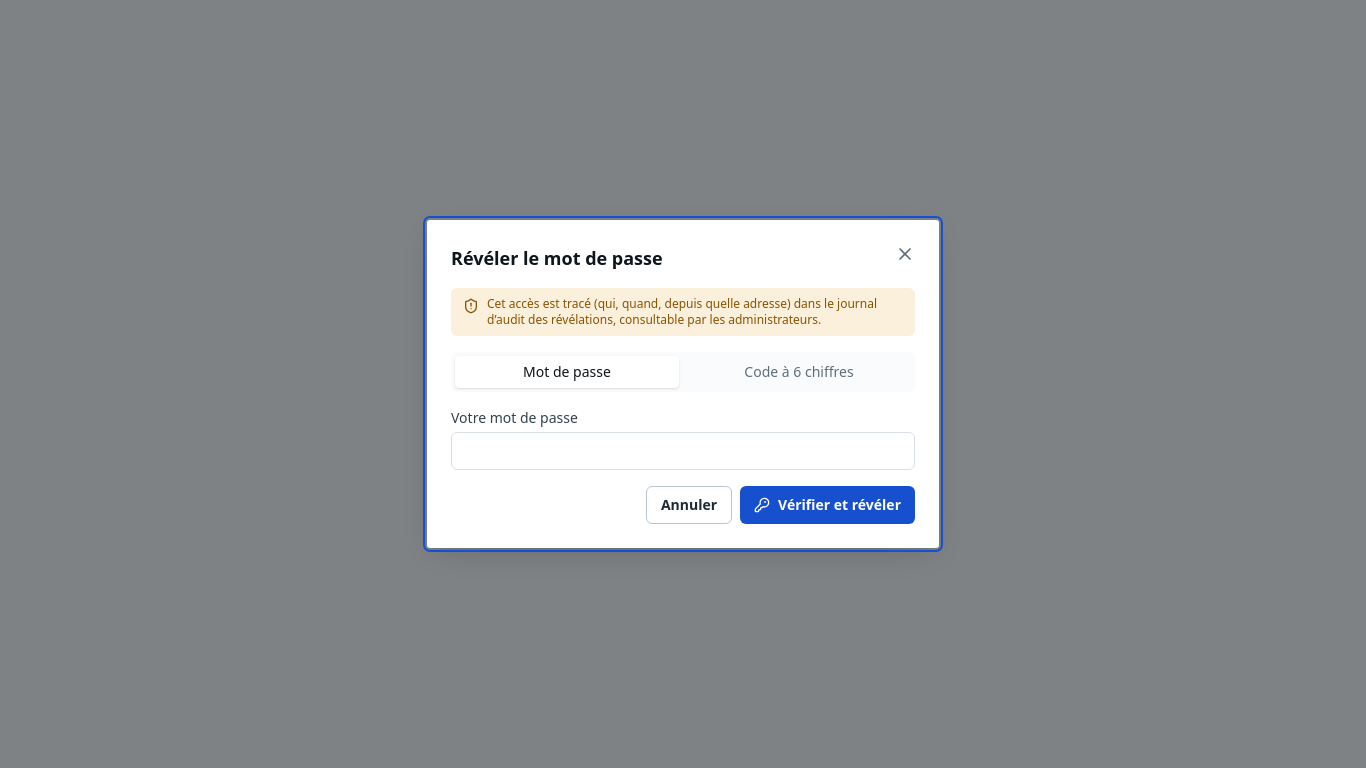
it: RevealSecretModal › ré-authentification › affiche une erreur et AUCUN secret quand les identifiants sont refusés
Type "MauvaisMotDePasse" into the password field labelled "Votre mot de passe" at [683, 451], box [451,432,915,470]
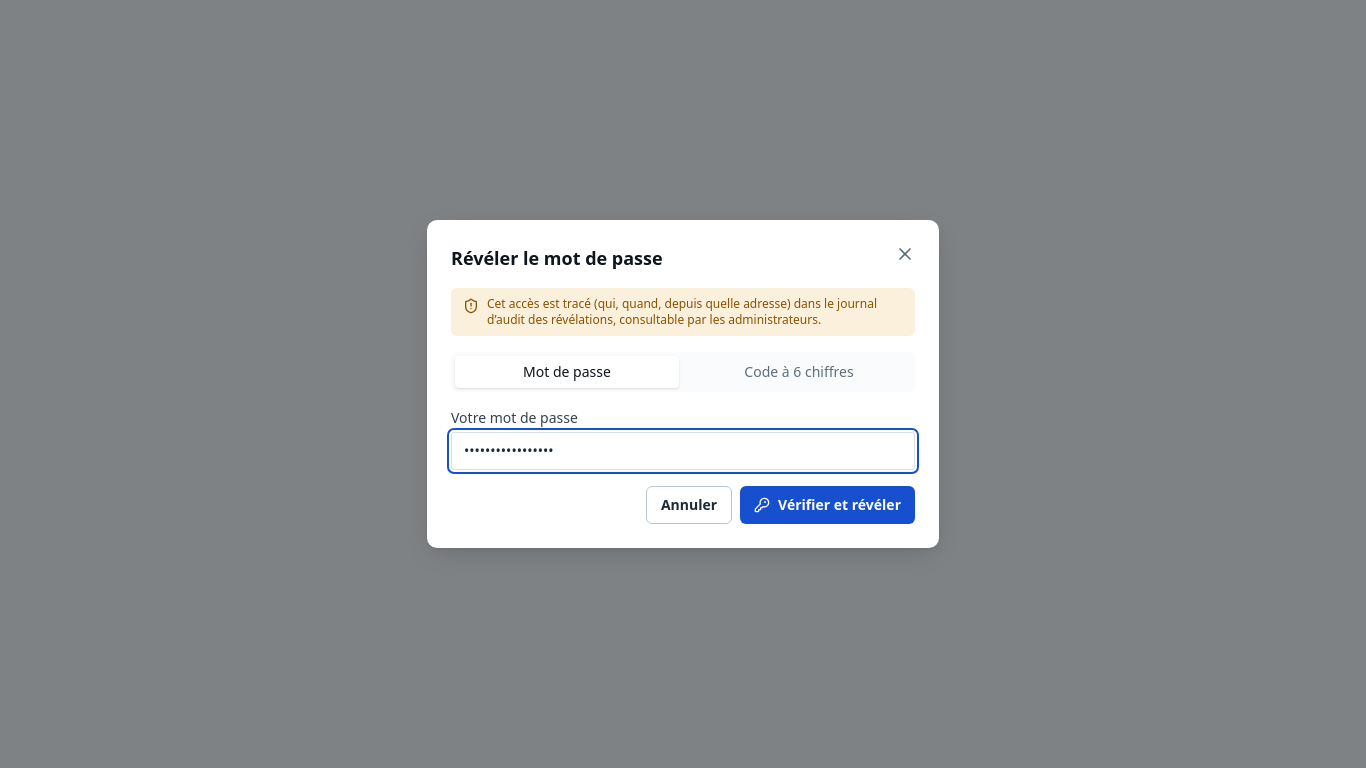
Click the button "Vérifier et révéler" at [828, 505], box [740,486,915,524]
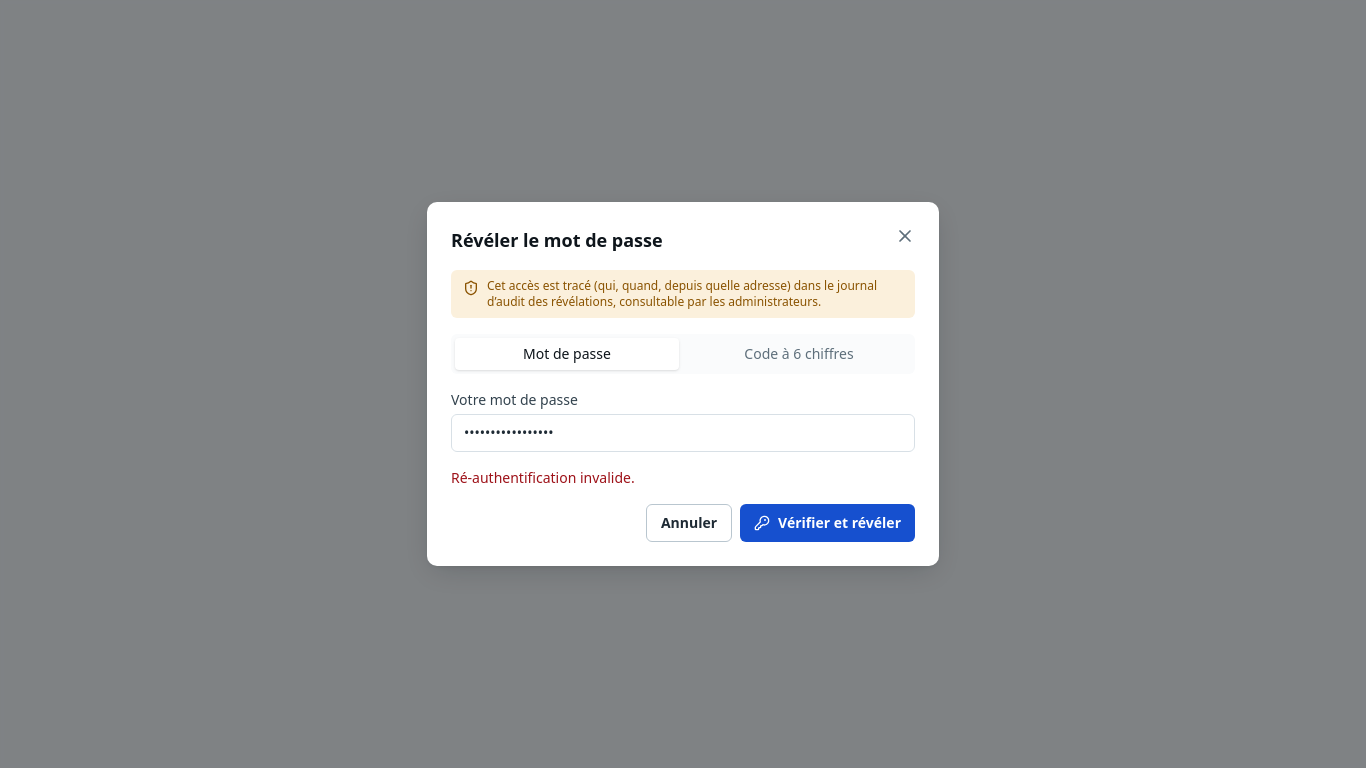
Now the text "Ré-authentification invalide." is shown, box [451,468,635,487]
